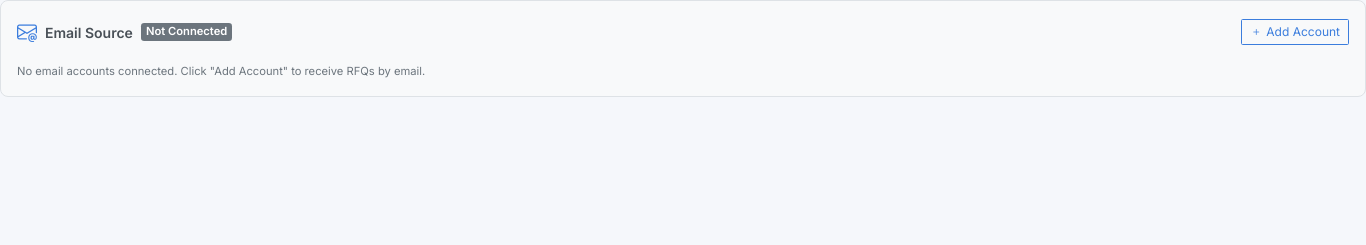
Test case: ProcurementEmailWidget multi-account › 6. clicking "Add Account" shows the form
Click the button "Add Account".
click(1295, 32)  # box [1241,19,1349,45]
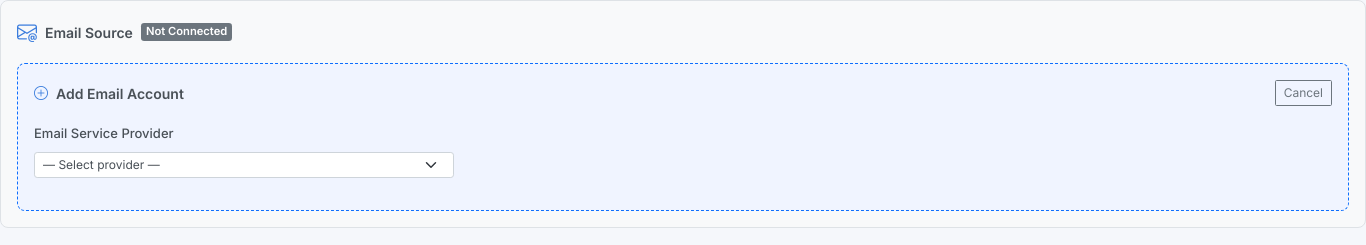
Result: the text "Email Service Provider" is shown at [34,124,174,144]
